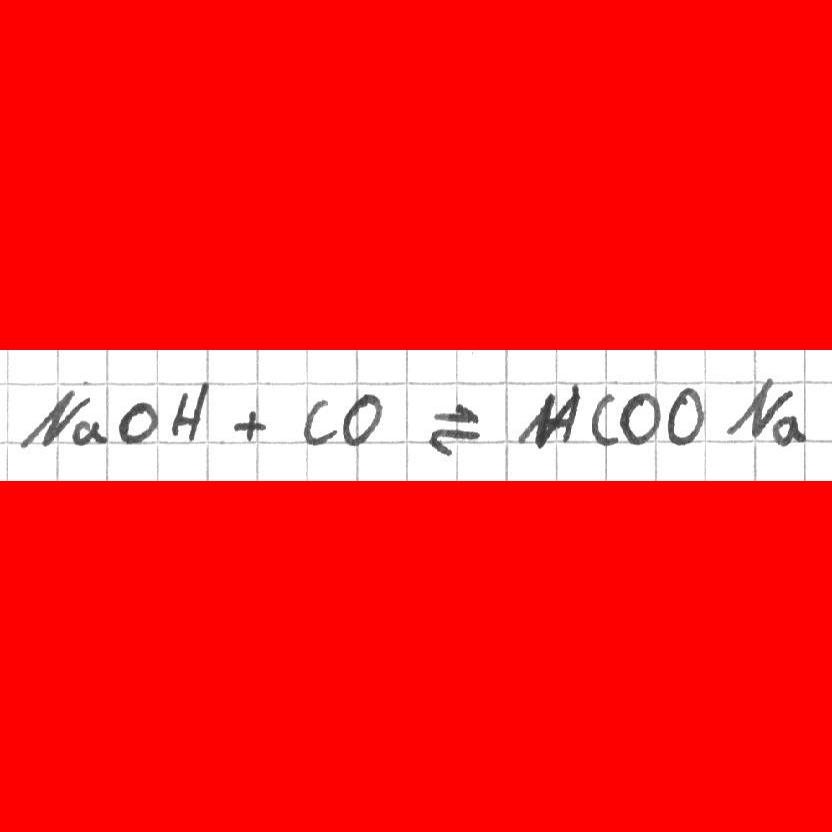Char: (512, 385, 581, 450), (725, 379, 786, 440), (20, 391, 80, 447), (165, 379, 210, 445), (428, 402, 483, 456), (665, 386, 707, 445), (342, 390, 383, 446), (619, 391, 660, 446), (302, 395, 340, 448), (117, 398, 159, 445), (590, 390, 617, 448), (769, 411, 808, 448), (70, 412, 108, 447), (230, 405, 265, 442)
